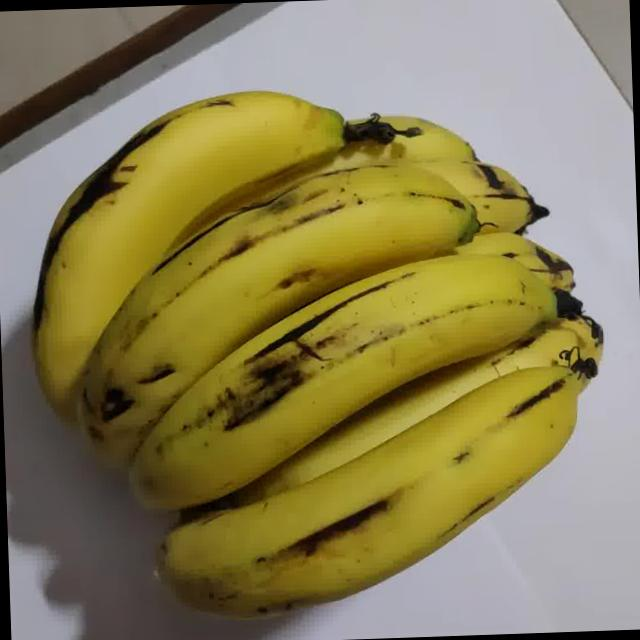banana_pacche: (0, 24, 597, 640)
